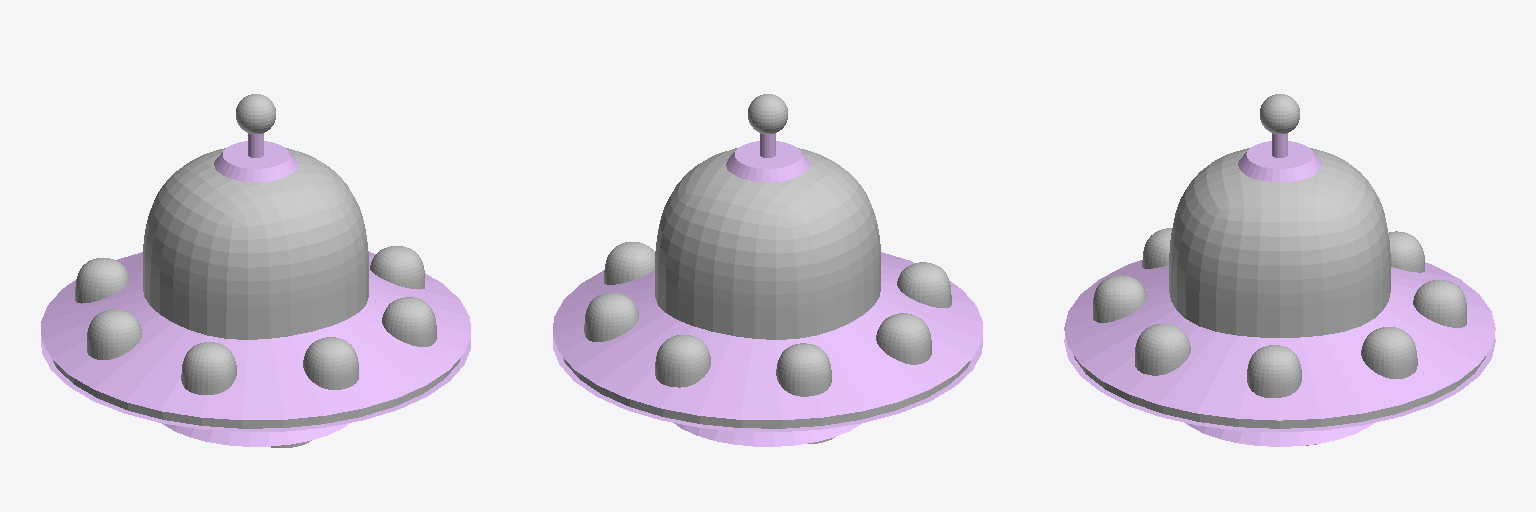
Rendered from NaveET.obj.
The picture shows the model from 3 angles: view 1: azimuth 30°, elevation 25°; view 2: azimuth 150°, elevation 25°; view 3: azimuth 270°, elevation 25°; orthographic projection.
Parts seen in each view (by area): view 1: Vidro, BaseCima, VidroLuzinhas, LuzMeioNave, BaseAntena, BaseTurbina, BaseBaixo, VidroLuzCima; view 2: Vidro, BaseCima, VidroLuzinhas, LuzMeioNave, BaseAntena, BaseTurbina, BaseBaixo, VidroLuzCima; view 3: Vidro, BaseCima, VidroLuzinhas, LuzMeioNave, BaseAntena, BaseTurbina, BaseBaixo, VidroLuzCima.
Part boxes in pixels (x1,y1,x2,y2): Vidro: (143, 148, 368, 339); BaseCima: (41, 252, 470, 419); VidroLuzinhas: (75, 246, 436, 394); LuzMeioNave: (53, 358, 460, 428); BaseAntena: (214, 141, 297, 182); BaseTurbina: (162, 423, 349, 446); BaseBaixo: (41, 336, 470, 431); VidroLuzCima: (236, 94, 275, 134); Vidro: (655, 148, 880, 339); BaseCima: (553, 252, 982, 419); VidroLuzinhas: (584, 242, 951, 396); LuzMeioNave: (563, 358, 970, 428); BaseAntena: (726, 141, 809, 182); BaseTurbina: (674, 423, 861, 446); BaseBaixo: (553, 336, 982, 431); VidroLuzCima: (748, 94, 787, 134); Vidro: (1169, 148, 1390, 337); BaseCima: (1064, 260, 1495, 420); VidroLuzinhas: (1093, 228, 1466, 397); LuzMeioNave: (1074, 356, 1485, 428); BaseAntena: (1238, 141, 1321, 181); BaseTurbina: (1186, 423, 1373, 446); BaseBaixo: (1064, 336, 1495, 431); VidroLuzCima: (1260, 94, 1299, 134).
Bounding box in the file's own units: 2 × 1.64 × 2.